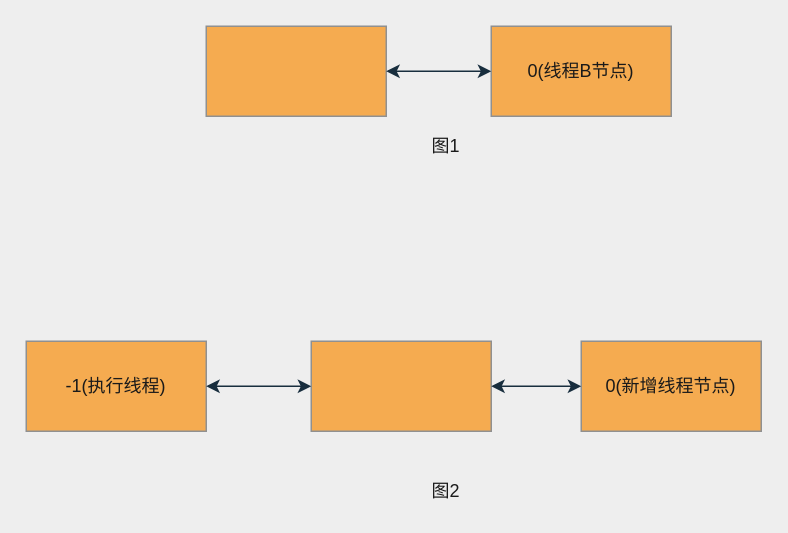
This 788x533 diagram has some shape labels left out. The shapes that lost their labels are listed below. From the top down, each one's centre as x and y in pixels, then its label:
the point at 295,70: 0(虚拟节点)
the point at 400,385: 0(park线程A)
